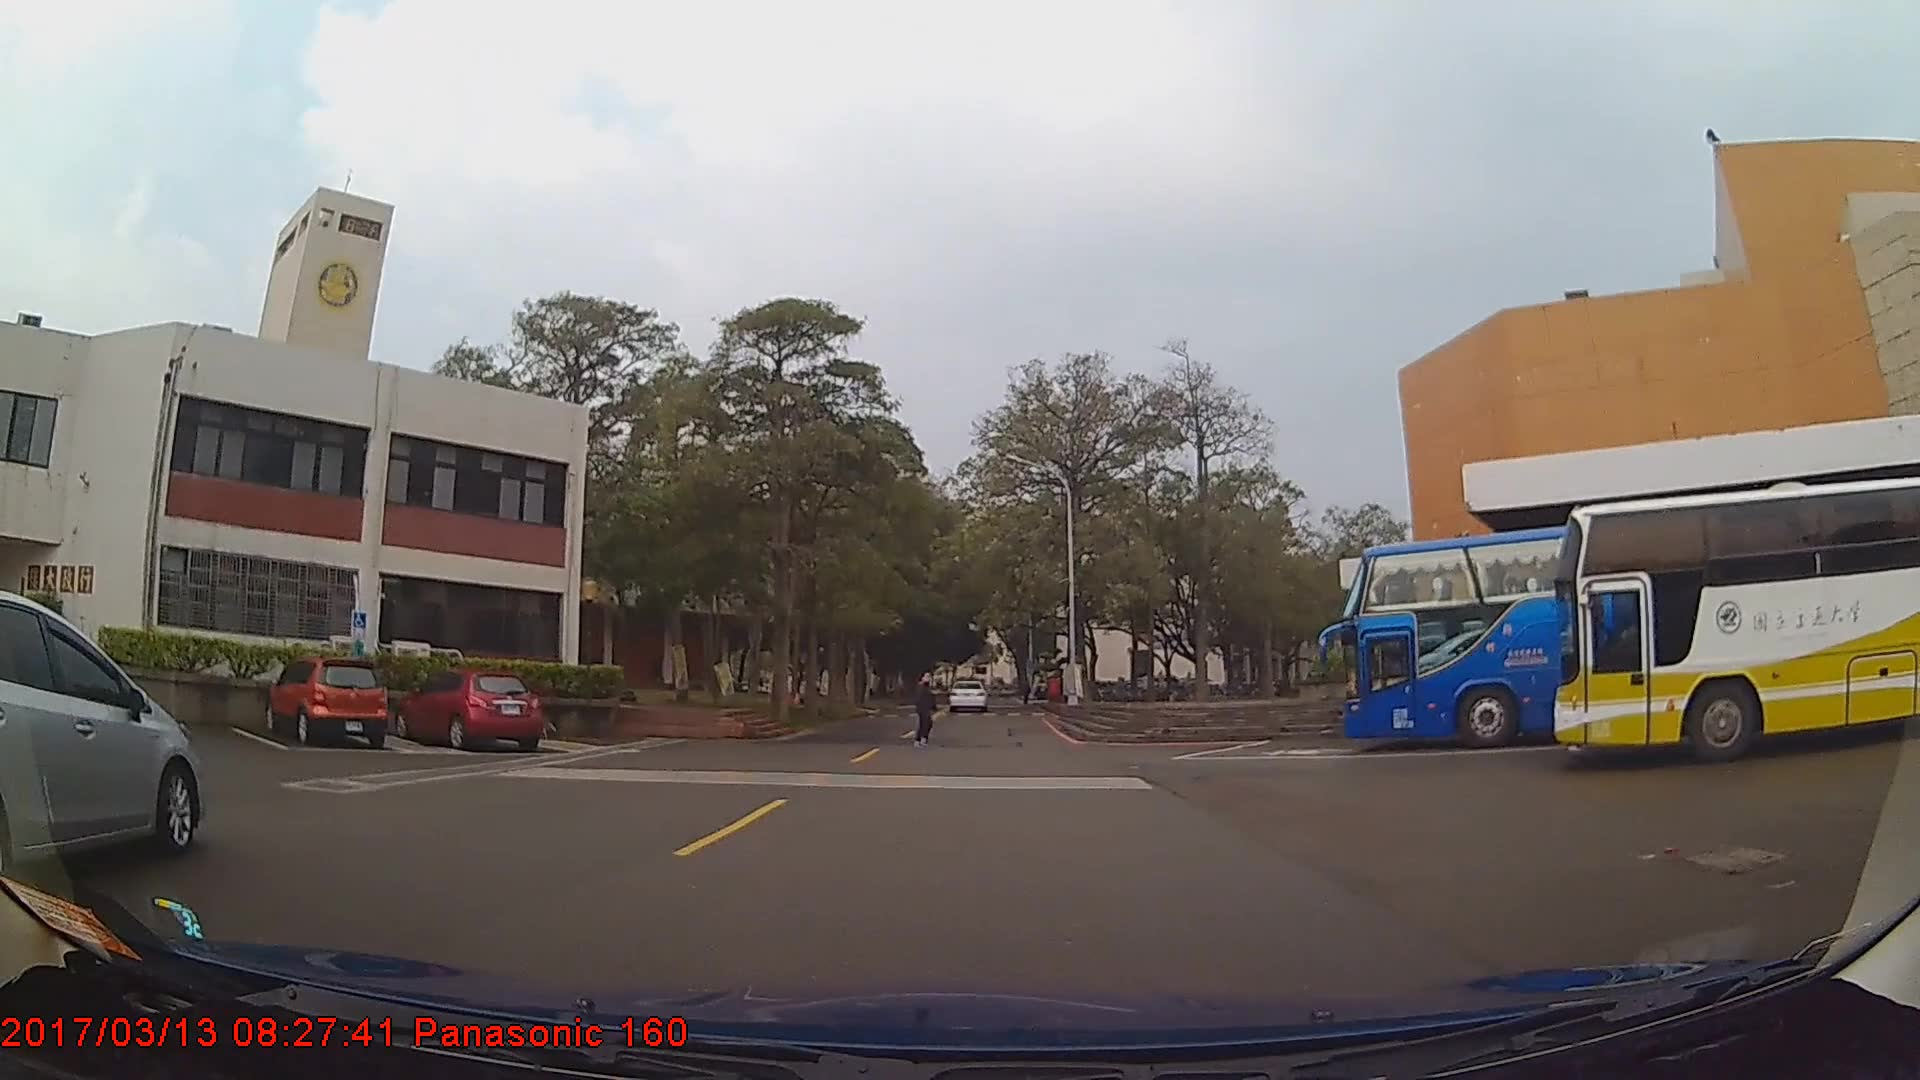pedestrian: (909, 669, 939, 746)
vehicle: (1341, 506, 1920, 750), (1554, 473, 1920, 765), (0, 586, 205, 887), (390, 669, 542, 750), (259, 657, 387, 749), (944, 677, 989, 715)
